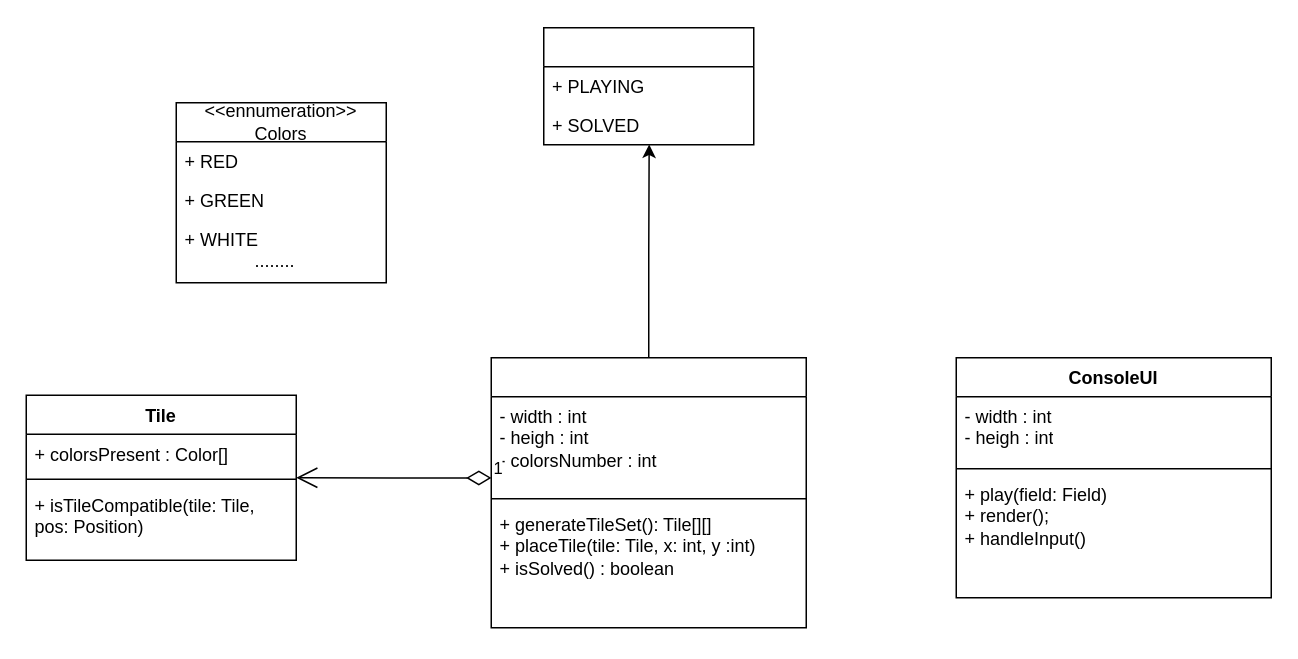
The diagram is 1298 pixels wide and 659 high, and some of its shapes have lost their labels. Each missing label, with the box of its shape:
<<ennumeration>> GameStates: (542, 26, 754, 145)
Field: (490, 356, 806, 628)
